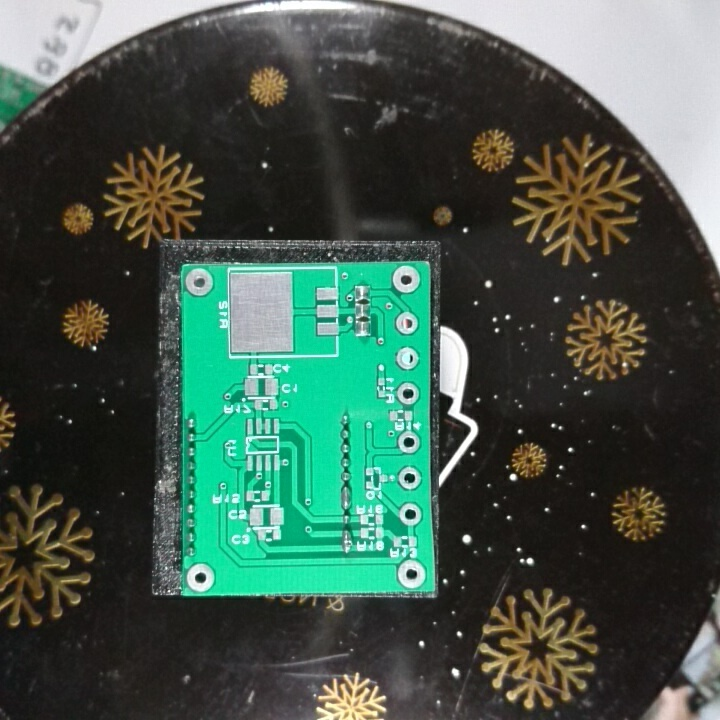F: (182, 265, 214, 300), (390, 264, 422, 295), (393, 558, 427, 587), (185, 561, 216, 591), (392, 309, 421, 336), (396, 464, 422, 492), (395, 380, 421, 407), (397, 429, 422, 456), (394, 345, 419, 371), (399, 500, 424, 526)
P: (338, 483, 355, 514), (338, 528, 354, 555)
